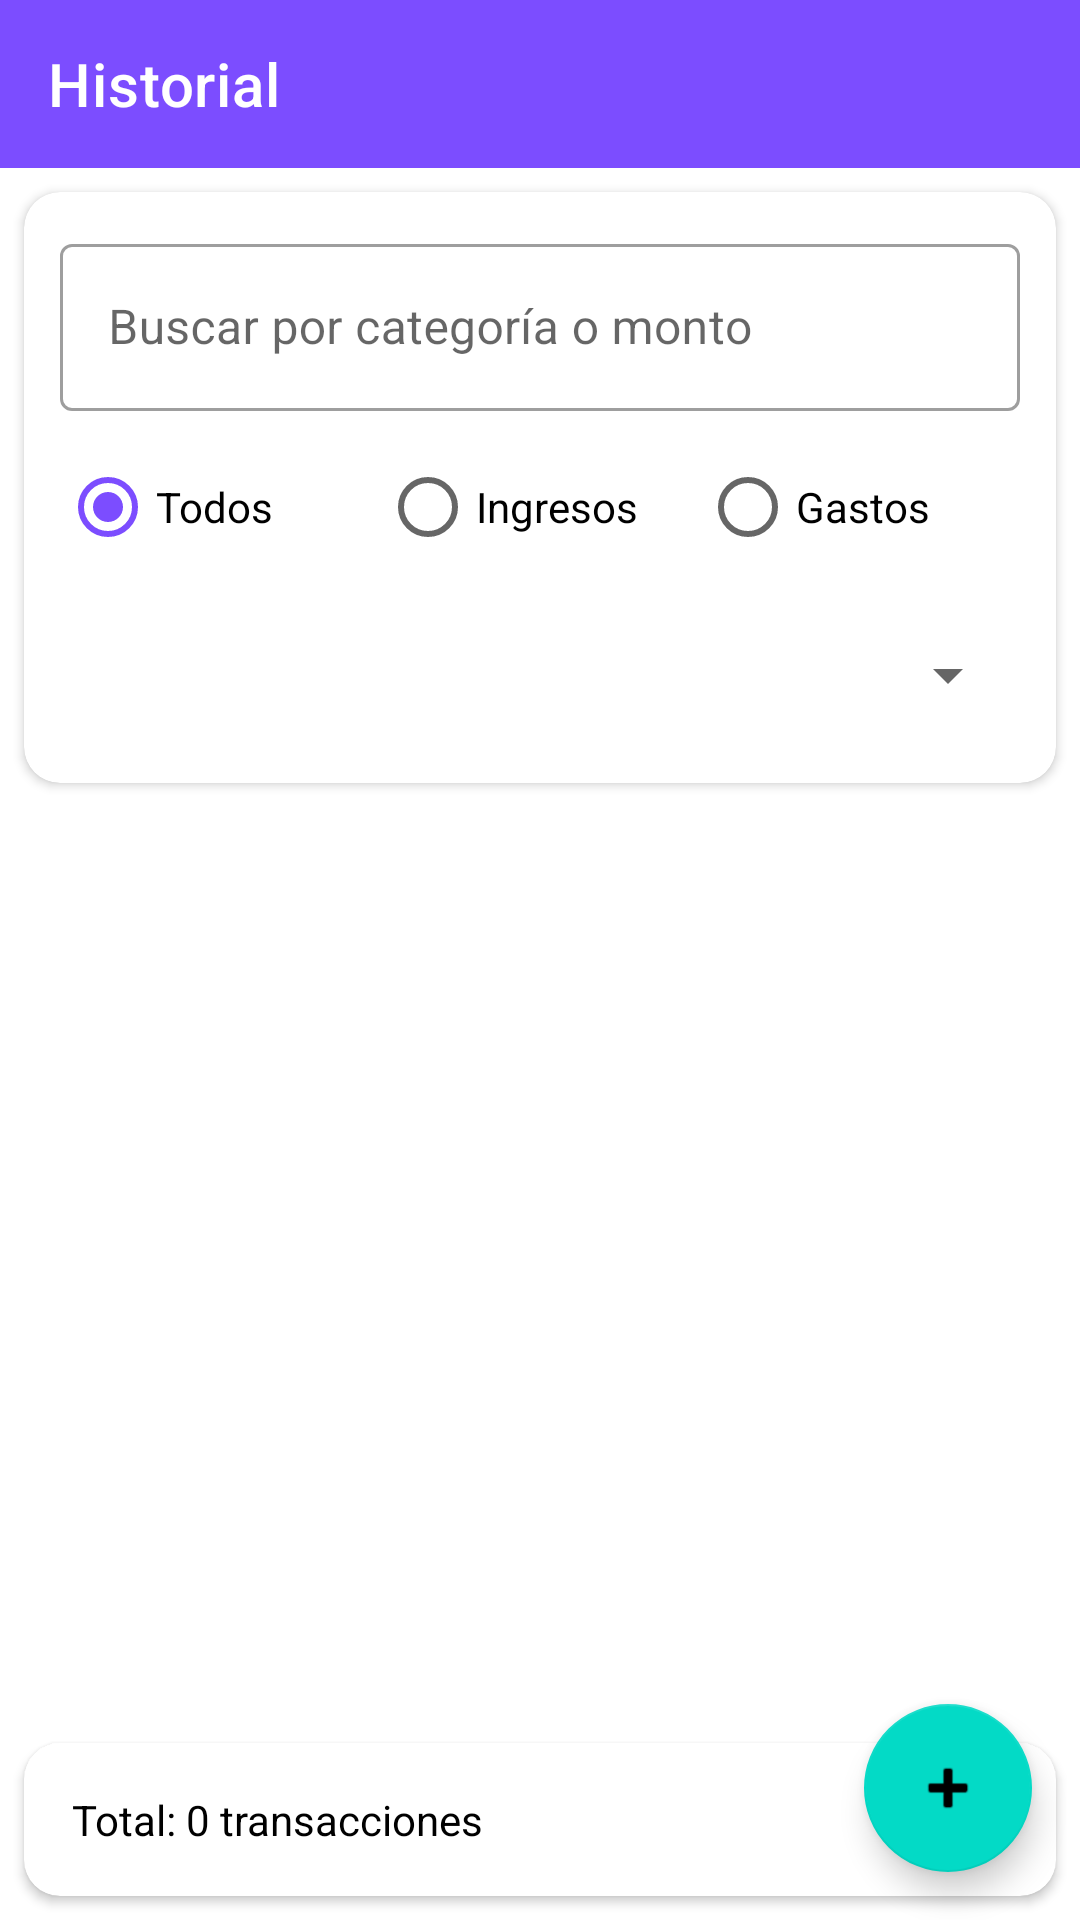

Icon bounding boxes for this 1080 x 1920 phone screenshot, format (x1=x1, y1=y1, x2=x2, y2=y2):
Nueva transacción: (x1=864, y1=1704, x2=1032, y2=1872)
